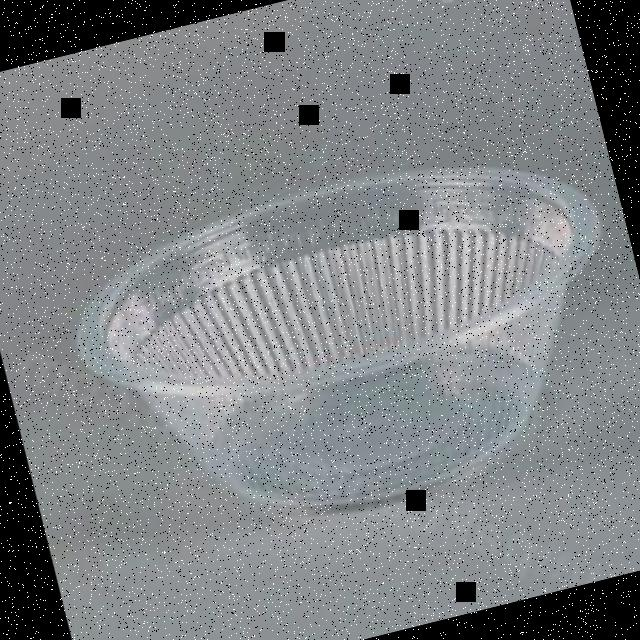plastic_box: (56, 126, 640, 564)
